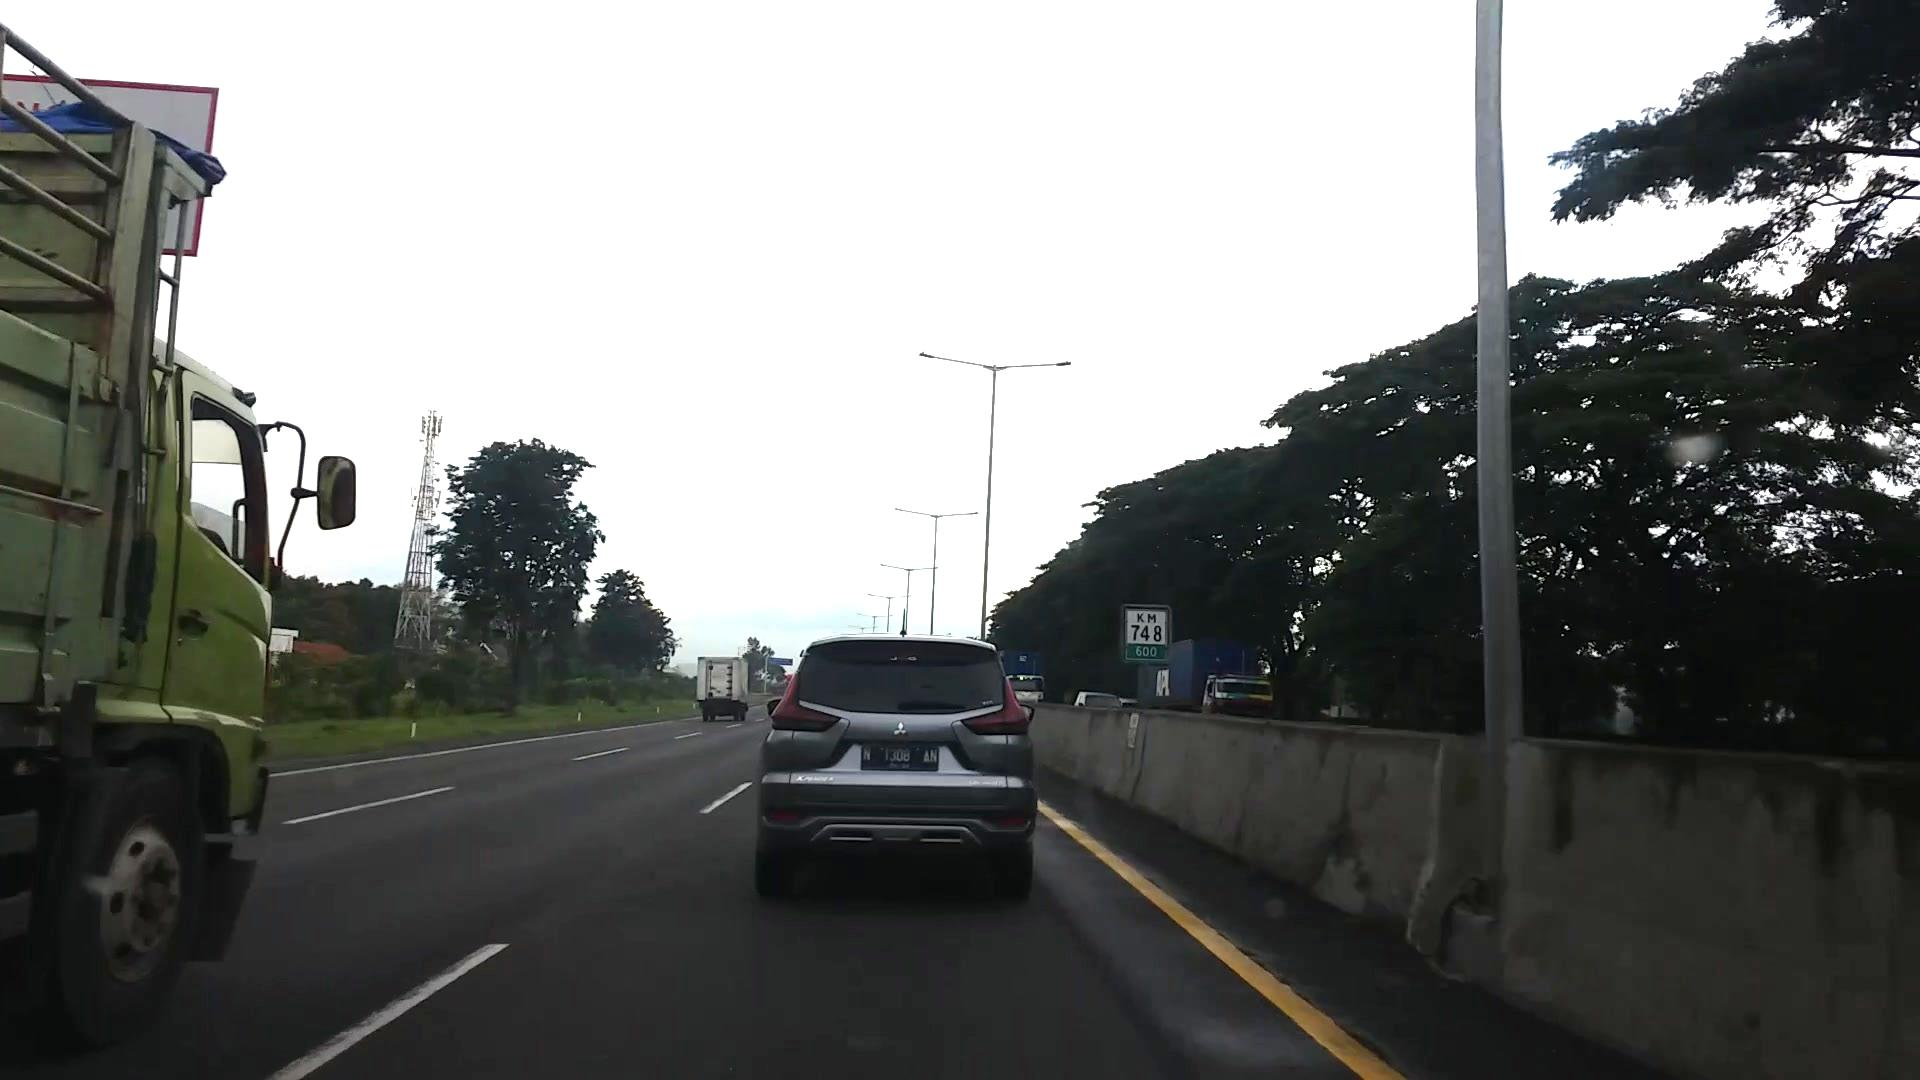plate_positive: (861, 742, 938, 771)
